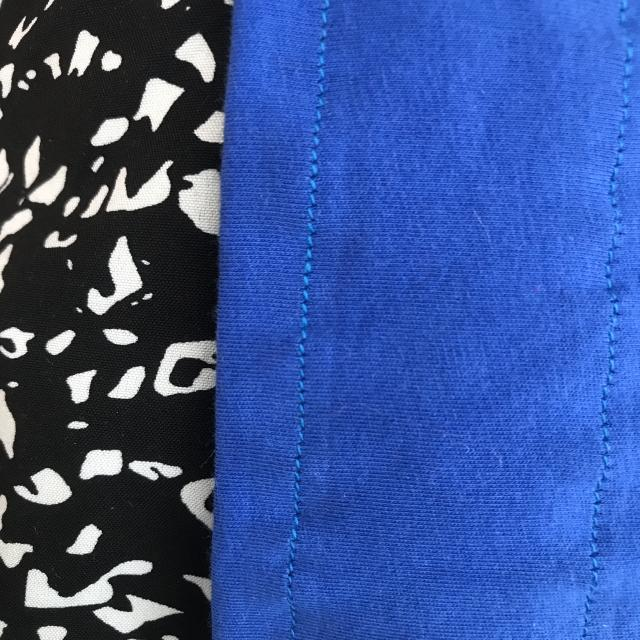good: (290, 150, 327, 332), (288, 354, 315, 541)
